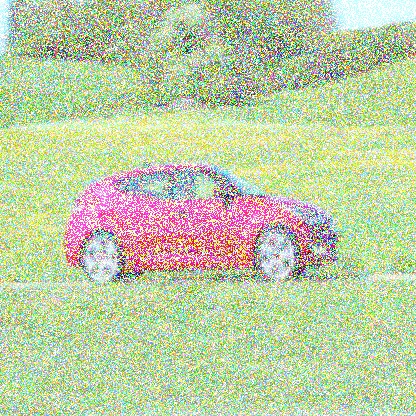Vehicle: (64, 158, 344, 284)
